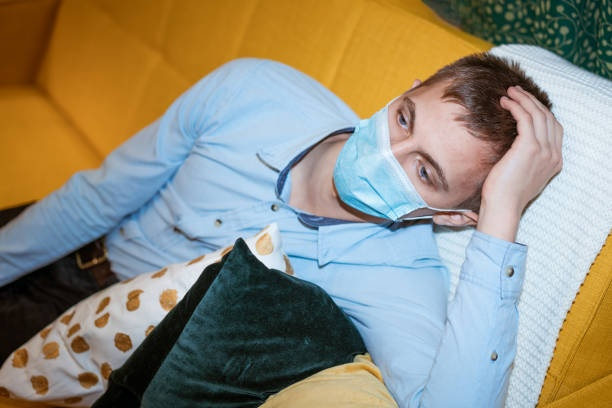mask: (331, 59, 505, 224)
person: (2, 54, 564, 408)
